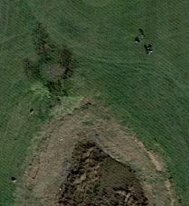tree: (26, 74, 92, 123)
